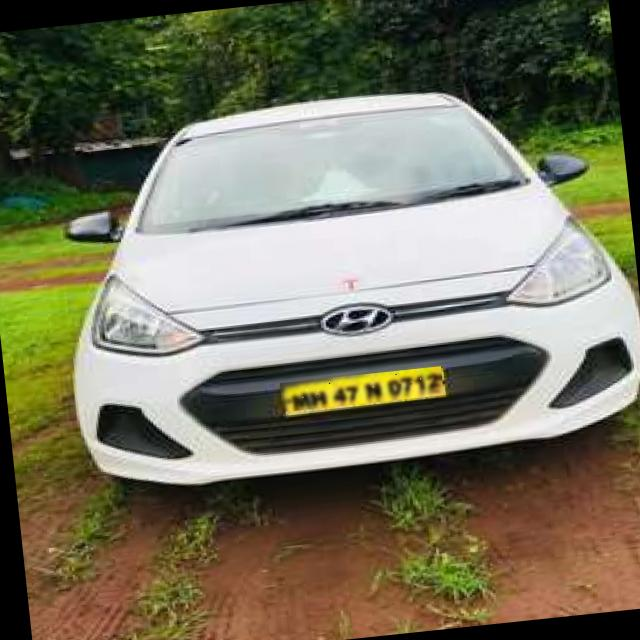Plate: (281, 367, 445, 413)
